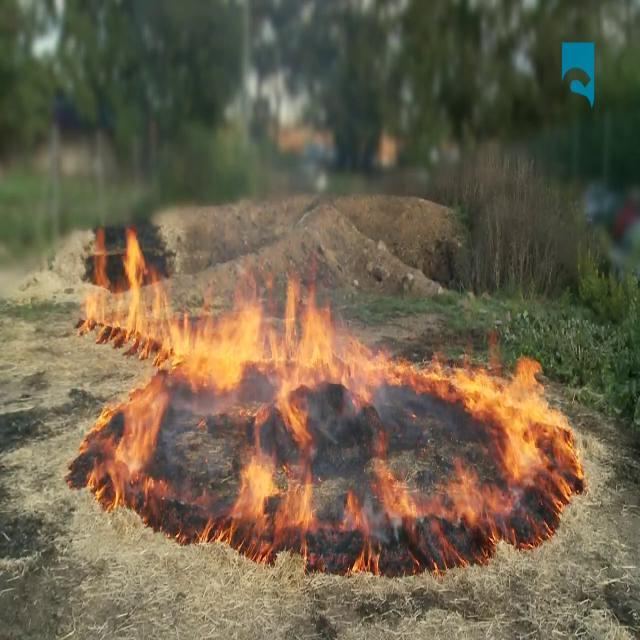Fire: (76, 256, 586, 529), (444, 345, 588, 518)
